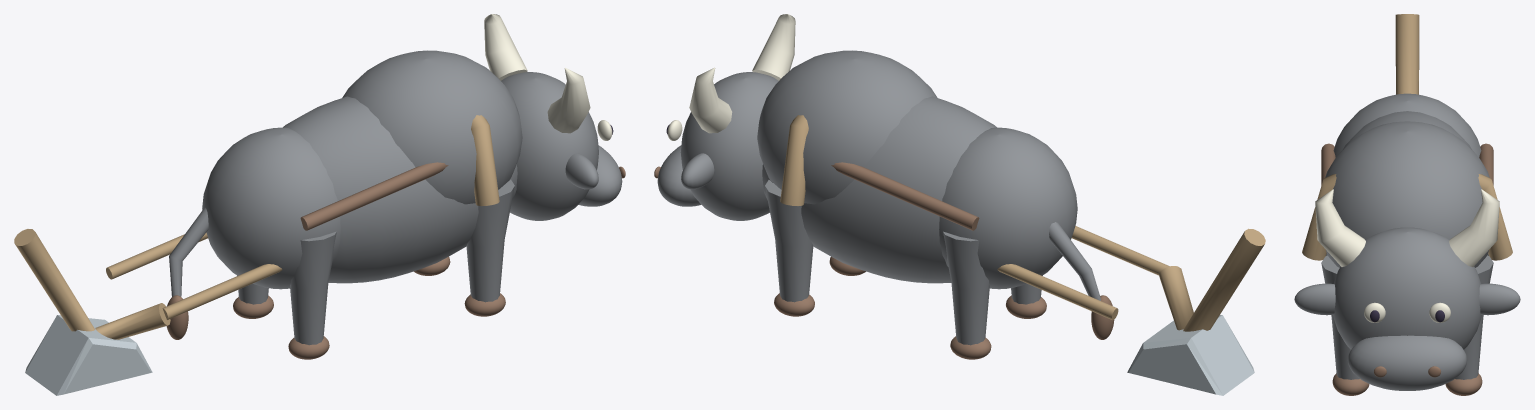
Rendered from conch_ox_directions_BlackIdleUp.glb.
The picture shows the model from 3 angles, left to right: view 1: azimuth 30°, elevation 25°; view 2: azimuth 150°, elevation 25°; view 3: azimuth 270°, elevation 25°; orthographic projection.
Bounding box in the file's own units: 37.11 × 14.45 × 12.06.
